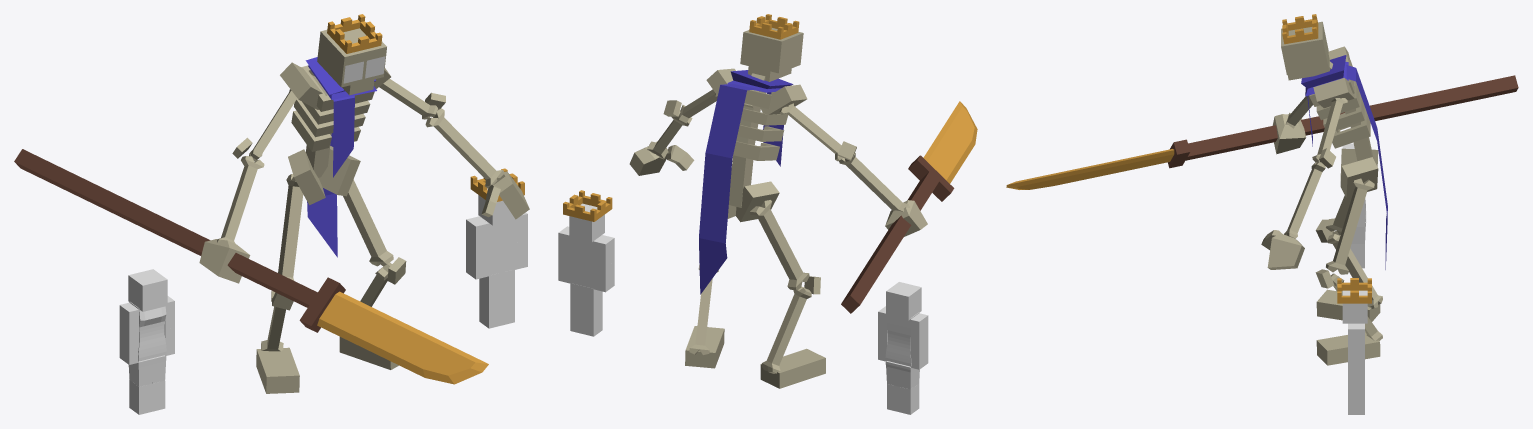
File: skeletonKingTestScene.glb
3 views of the same model, side by side, from view 1: azimuth 30°, elevation 25°; view 2: azimuth 150°, elevation 25°; view 3: azimuth 270°, elevation 25° (orthographic). The views are drawn at different scales.
Visible parts, largest first — view 1: glaive.002, slim.001, normal.001, Cube.030, bone.009, bone.012, Cube.018, Cube.029, Cube.021, Cube.020, bone.011, bone.010 (+7 smaller); view 2: Cube.030, glaive.002, slim.001, normal.001, Cube.029, Cube.021, Cube.018, bone.010, bone.012, bone.009, bone.011, Cube.024 (+8 smaller); view 3: glaive.002, normal.001, Cube.029, Cube.021, bone.009, Cube.018, Cube.030, bone.012, Cube.020, bone.010, Cube.027, Cube.024 (+6 smaller).
Part boxes in pixels (bbox=[...]): glaive.002: bbox=[14, 149, 488, 384]; slim.001: bbox=[119, 269, 174, 414]; normal.001: bbox=[466, 188, 527, 328]; Cube.030: bbox=[305, 57, 376, 257]; bone.009: bbox=[278, 174, 393, 280]; bone.012: bbox=[217, 108, 504, 243]; Cube.018: bbox=[291, 65, 374, 151]; Cube.029: bbox=[256, 337, 398, 393]; Cube.021: bbox=[317, 28, 386, 95]; Cube.020: bbox=[288, 146, 360, 205]; bone.011: bbox=[249, 78, 437, 160]; bone.010: bbox=[261, 262, 391, 351]; Cube.030: bbox=[699, 70, 793, 294]; glaive.002: bbox=[841, 101, 977, 313]; slim.001: bbox=[878, 282, 928, 414]; normal.001: bbox=[558, 203, 614, 336]; Cube.029: bbox=[685, 326, 825, 388]; Cube.021: bbox=[740, 28, 803, 81]; Cube.018: bbox=[724, 84, 787, 160]; bone.010: bbox=[689, 265, 811, 373]; bone.012: bbox=[647, 110, 909, 211]; bone.009: bbox=[750, 200, 809, 290]; bone.011: bbox=[678, 89, 842, 161]; Cube.024: bbox=[706, 68, 807, 114]; glaive.002: bbox=[1006, 75, 1518, 189]; normal.001: bbox=[1342, 290, 1367, 414]; Cube.029: bbox=[1316, 289, 1380, 365]; Cube.021: bbox=[1281, 21, 1329, 80]; bone.009: bbox=[1326, 178, 1374, 274]; Cube.018: bbox=[1309, 60, 1370, 148]; Cube.030: bbox=[1301, 55, 1387, 269]; bone.012: bbox=[1284, 95, 1325, 238]; Cube.020: bbox=[1340, 148, 1378, 197]; bone.010: bbox=[1327, 231, 1382, 340]; Cube.027: bbox=[1267, 233, 1304, 269]; Cube.024: bbox=[1313, 46, 1354, 108].
Size of the model in its own units: 4.79 by 3.98 by 5.87.
